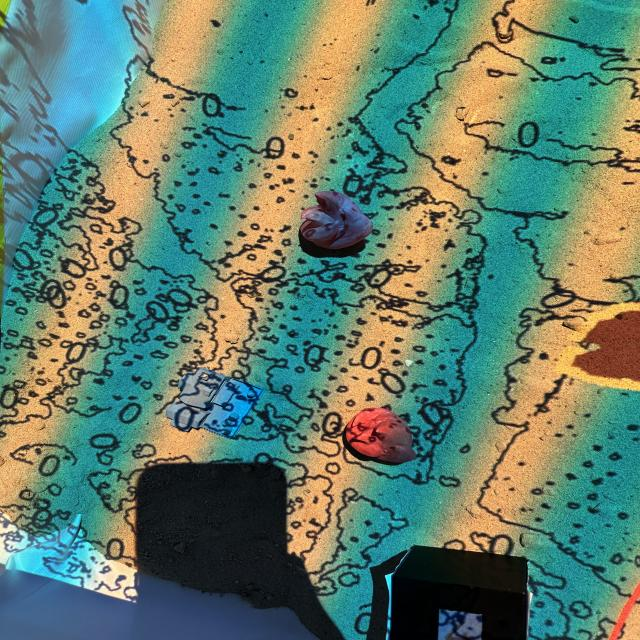fire: (299, 190, 373, 248), (344, 407, 416, 466)
house: (164, 366, 264, 441)
